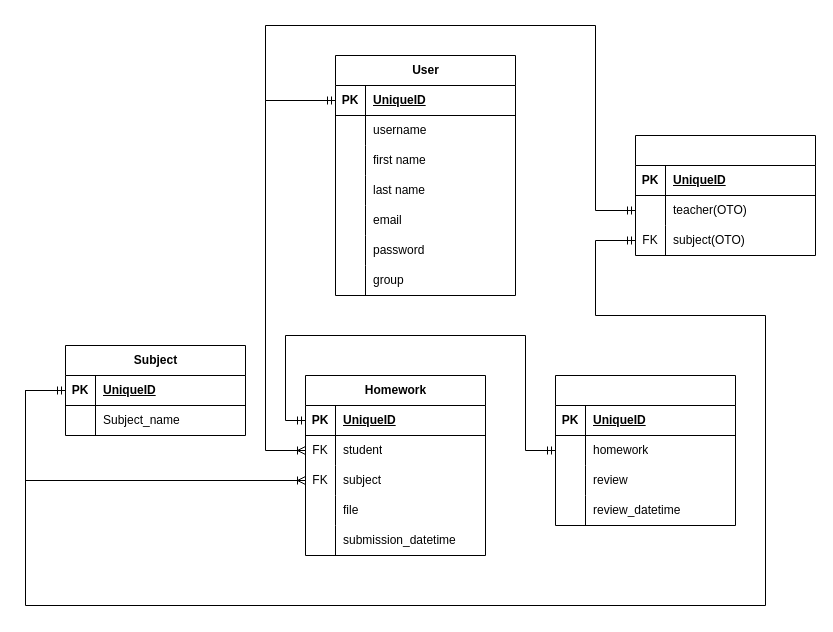
The diagram is 833 pixels wide and 632 high, and some of its shapes have lost their labels. Here are the shapes that lost their labels. From the top down, the box of each, then its label:
(634, 134, 816, 256): TeacherSubject
(554, 374, 736, 526): TeacherReview
